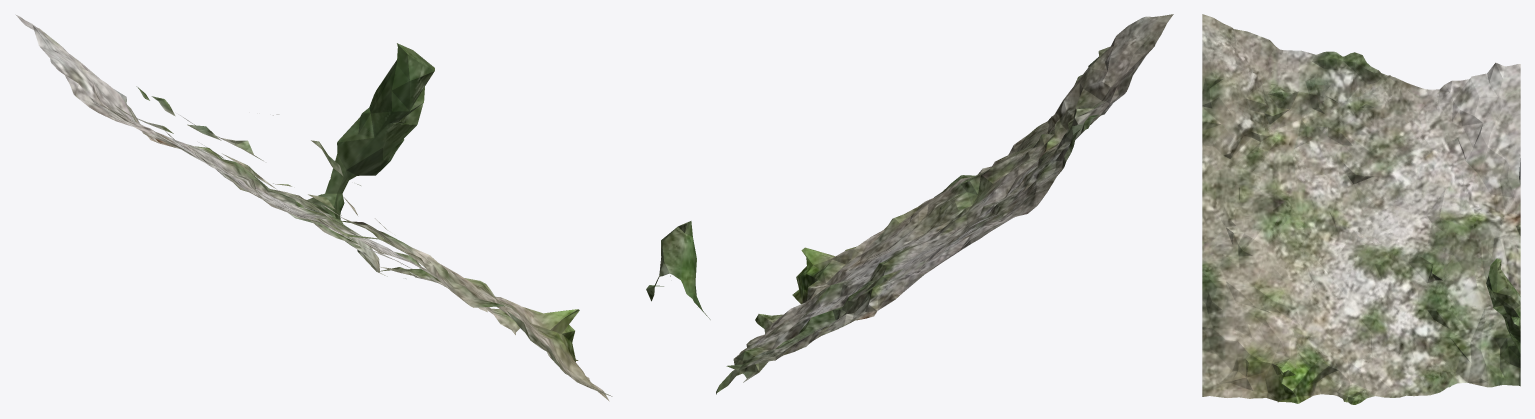
The picture shows the model from 3 angles, left to right: view 1: azimuth 30°, elevation 25°; view 2: azimuth 150°, elevation 25°; view 3: azimuth 270°, elevation 25°; orthographic projection. The views are drawn at different scales.
Bounding box in the file's own units: 2.95 × 2.67 × 2.95.
Materials: 3 (3 with a texture image).
